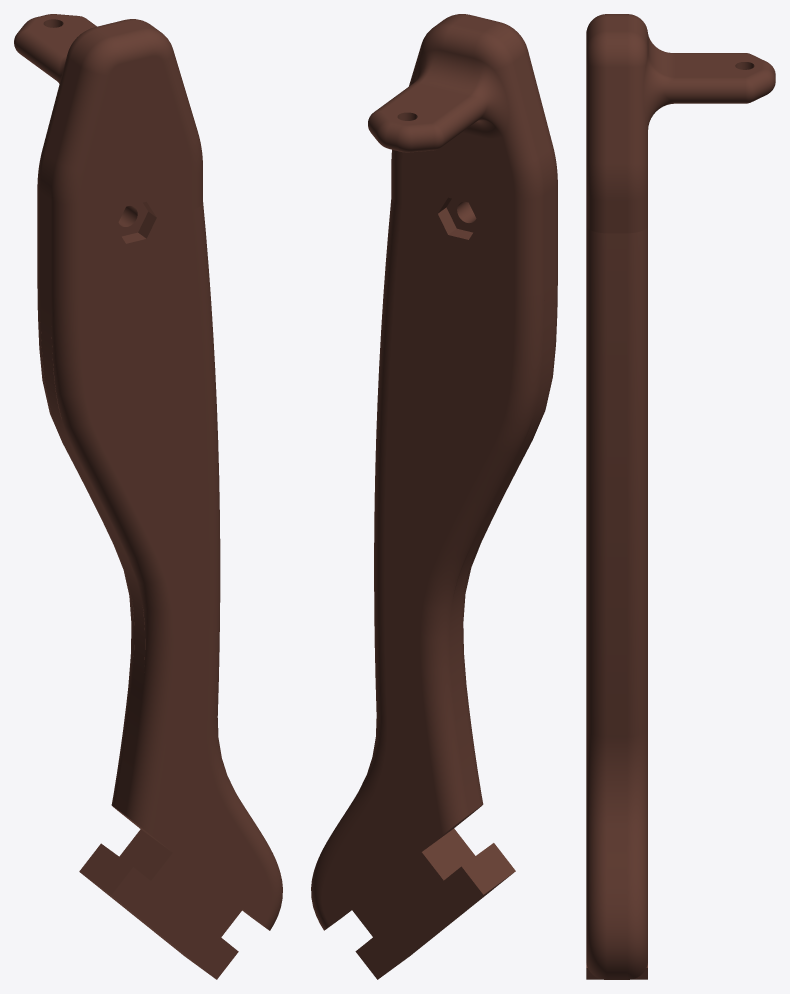
The model's file is left_tibia.dae.
3 views of the same model, side by side, from view 1: azimuth 30°, elevation 25°; view 2: azimuth 150°, elevation 25°; view 3: azimuth 270°, elevation 25° (orthographic). The views are drawn at different scales.
Visible parts, largest first — view 1: ID2; view 2: ID2; view 3: ID2.
Part boxes in pixels (x1=…): ID2: x1=14, y1=14, x2=282, y2=979; ID2: x1=311, y1=14, x2=557, y2=979; ID2: x1=586, y1=14, x2=775, y2=979.
Bounding box in the file's own units: 0.0369 × 0.0276 × 0.1475.
